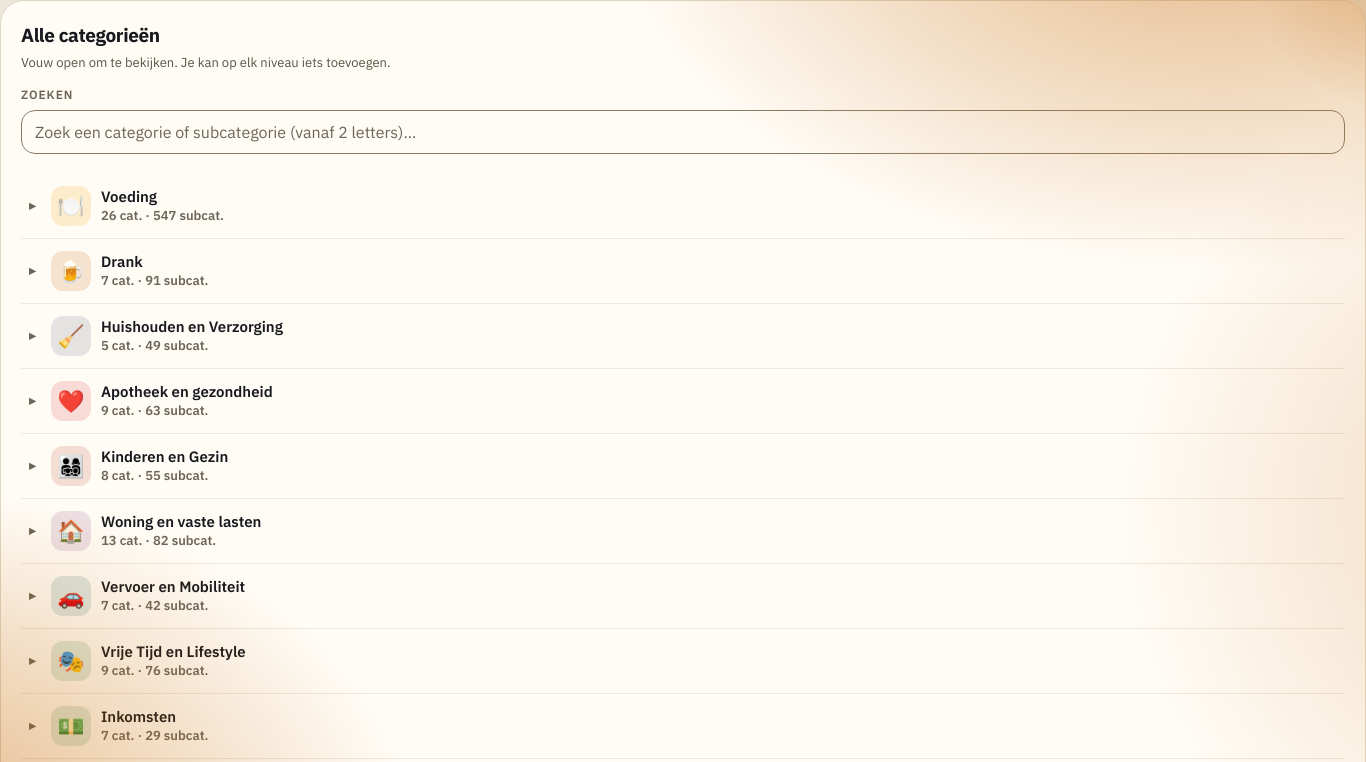
Test case: CategorieBoom — zoeken › vindt een subcategorie die je zelf hebt toegevoegd
This screenshot has width=1366, height=762.
Type "kefir" into the search field labelled "Zoeken".
click(683, 132); type("kefir")  # box left=21, top=110, right=1345, bottom=154
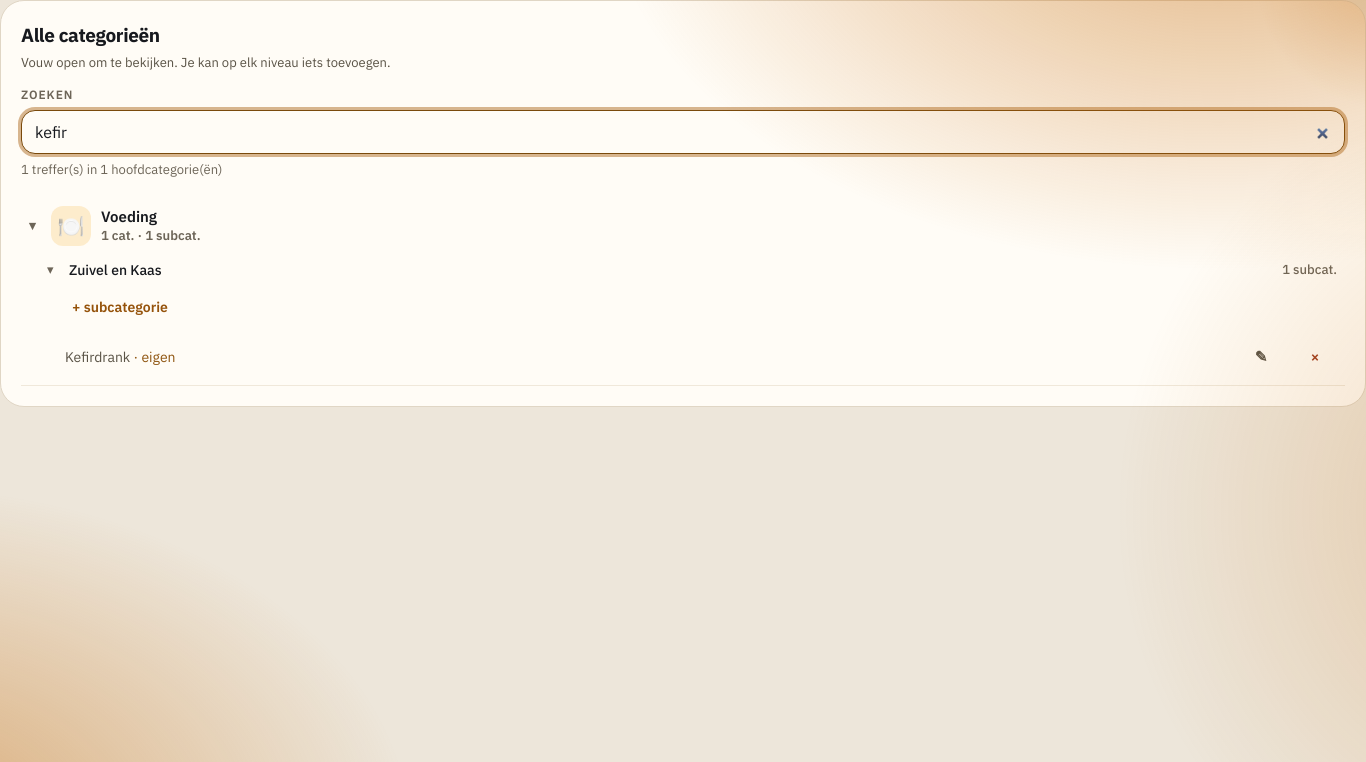
Now the text "Kefirdrank" is shown, box left=65, top=348, right=130, bottom=366
